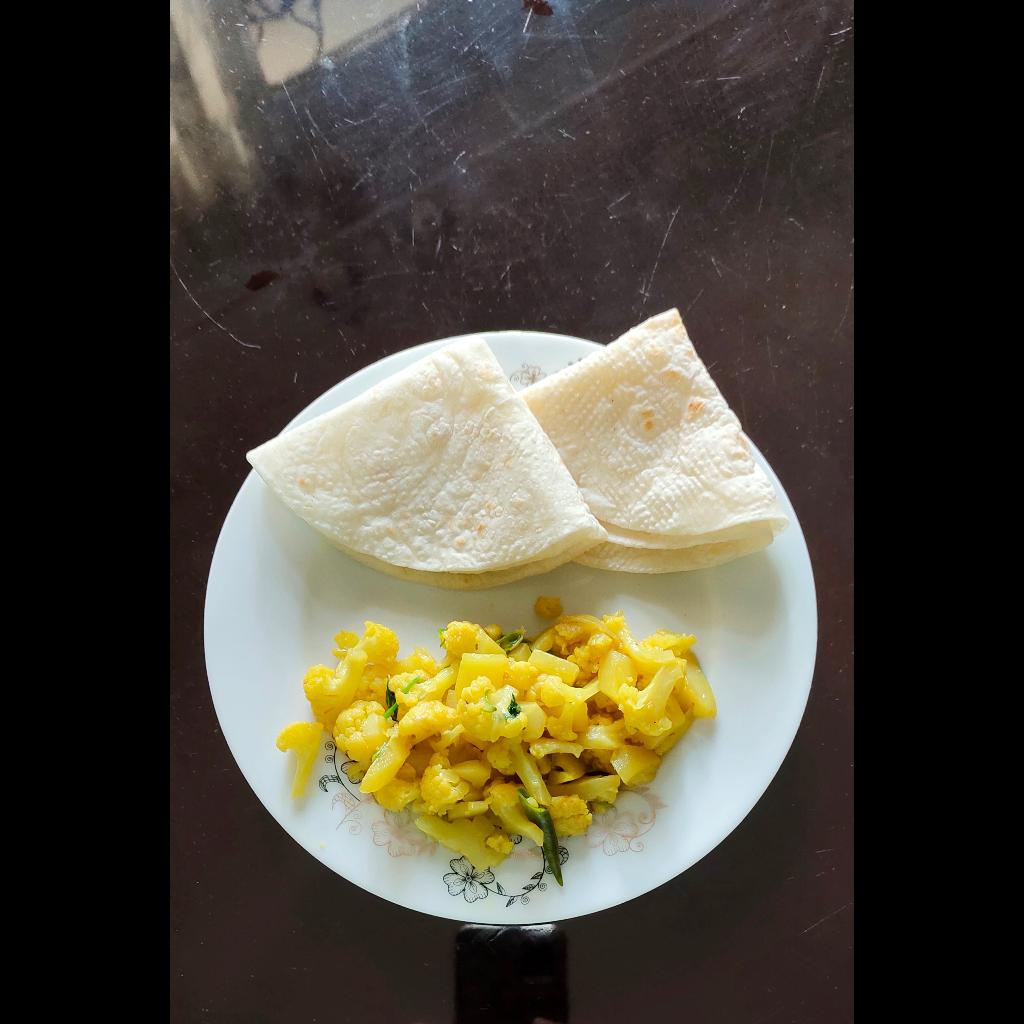cauliflower: (274, 589, 719, 877)
ruti: (240, 301, 795, 594)
